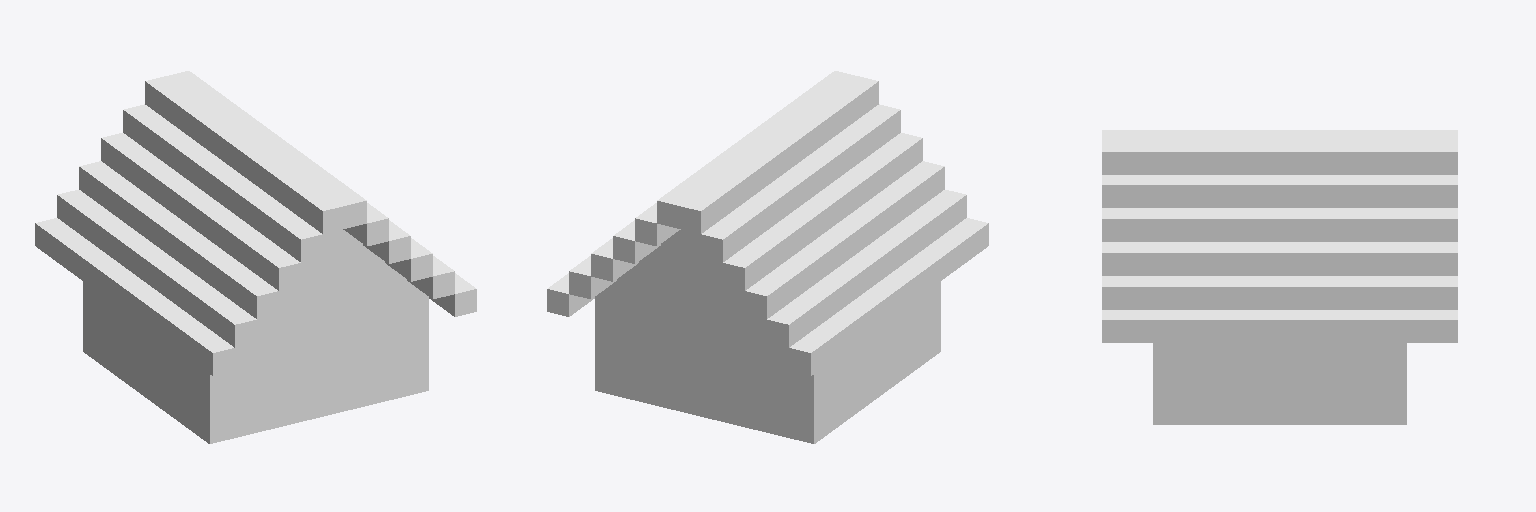
Rendered from house2.obj.
3 renders of one model, left to right at view 1: azimuth 30°, elevation 25°; view 2: azimuth 150°, elevation 25°; view 3: azimuth 270°, elevation 25°, orthographic.
Bounding box in the file's own units: 12 × 10 × 14.